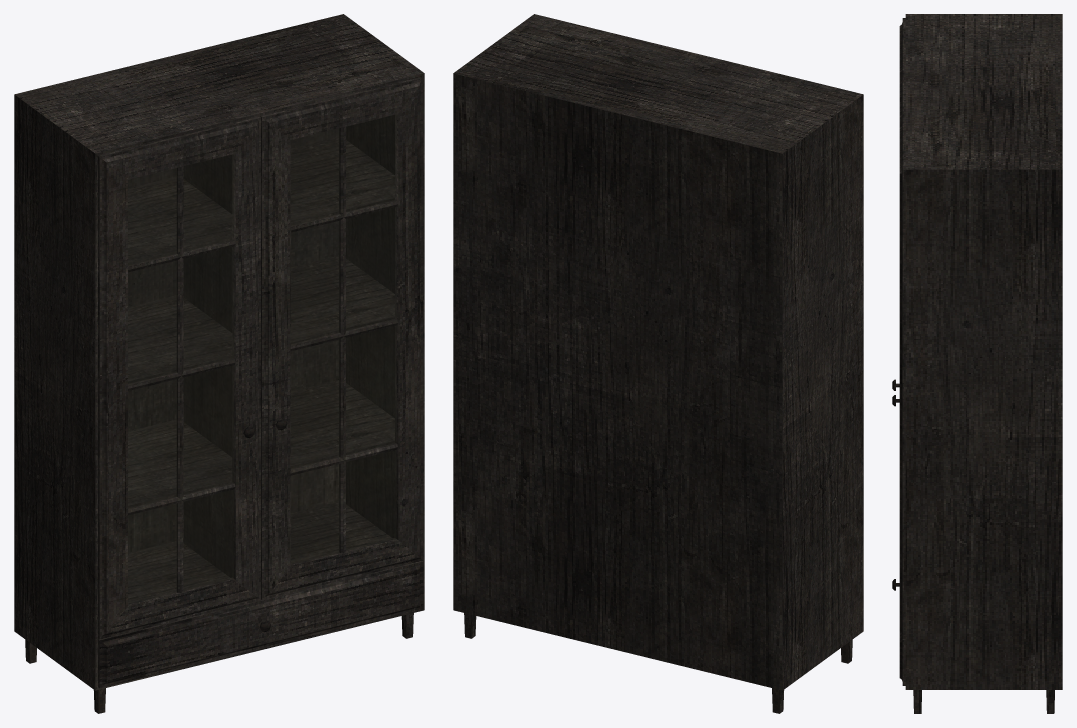
Rendered from wardrobe_mp_2.glb.
The picture shows the model from 3 angles, left to right: view 1: azimuth 30°, elevation 25°; view 2: azimuth 150°, elevation 25°; view 3: azimuth 270°, elevation 25°; orthographic projection. The views are drawn at different scales.
Parts seen in each view (by area): view 1: wardrobe_mp_2, wardrobe_mp_2_drawer; view 2: wardrobe_mp_2; view 3: wardrobe_mp_2, wardrobe_mp_2_drawer.
Boxes of the visible parts, left/top/right/bottom form: wardrobe_mp_2: left=14, top=14, right=424, bottom=713; wardrobe_mp_2_drawer: left=98, top=561, right=423, bottom=688; wardrobe_mp_2: left=453, top=14, right=863, bottom=713; wardrobe_mp_2: left=892, top=14, right=1062, bottom=713; wardrobe_mp_2_drawer: left=892, top=579, right=905, bottom=685.
Bounding box in the file's own units: 1.22 × 2 × 0.5645.
2 materials, 2 textured.
